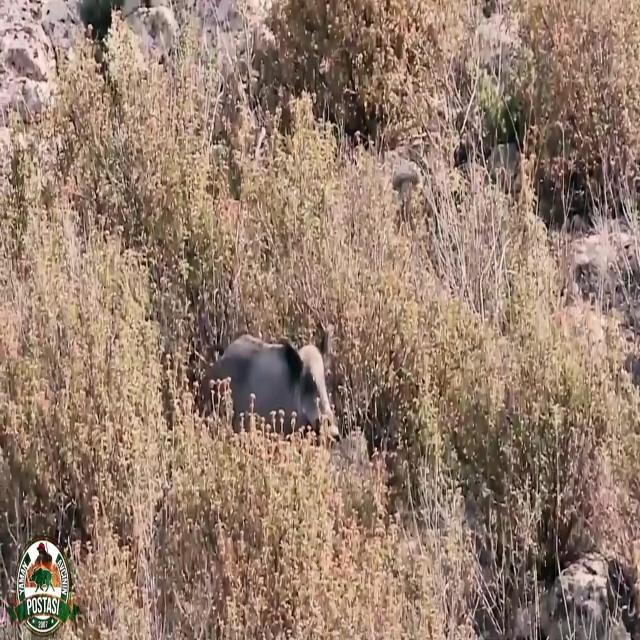pig: (216, 303, 345, 472)
